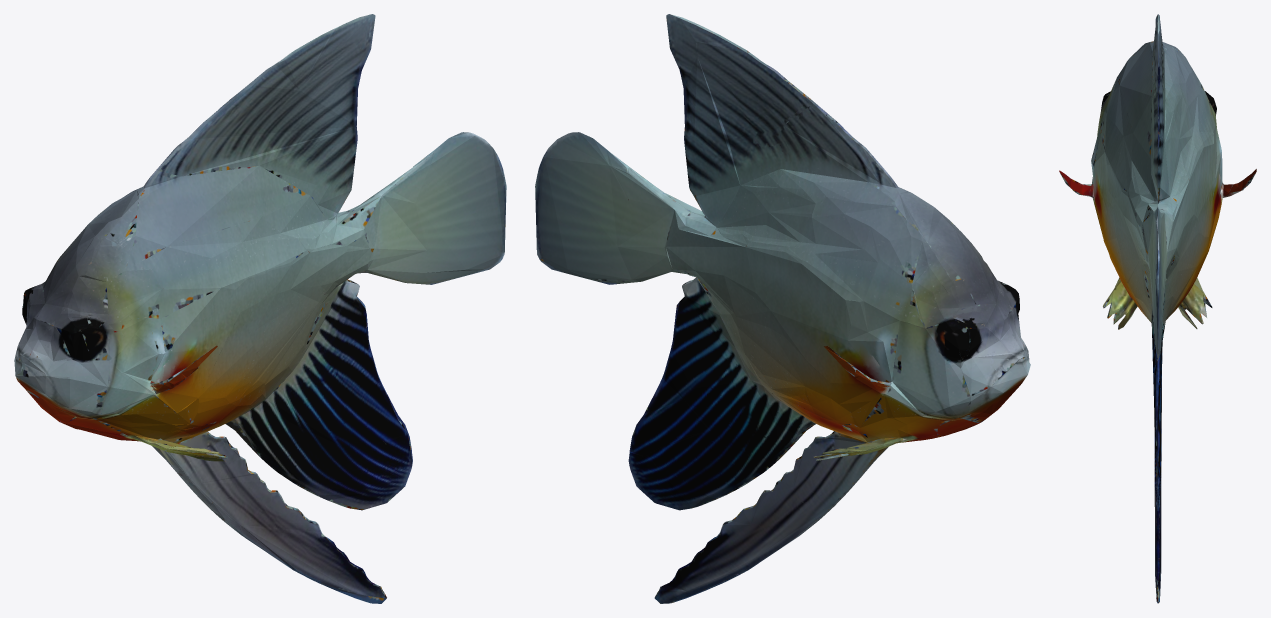
File: fish_0002_smpl23_resized.glb
The picture shows the model from 3 angles, left to right: view 1: azimuth 30°, elevation 25°; view 2: azimuth 150°, elevation 25°; view 3: azimuth 270°, elevation 25°; orthographic projection. The views are drawn at different scales.
Parts seen in each view (by area): view 1: world; view 2: world; view 3: world.
Part boxes in pixels (x1,y1,x2,y2): world: [14, 14, 506, 603]; world: [535, 14, 1030, 603]; world: [1059, 14, 1256, 603].
Bounding box in the file's own units: 1.73 × 1.99 × 0.6296.
1 material, 1 textured.
